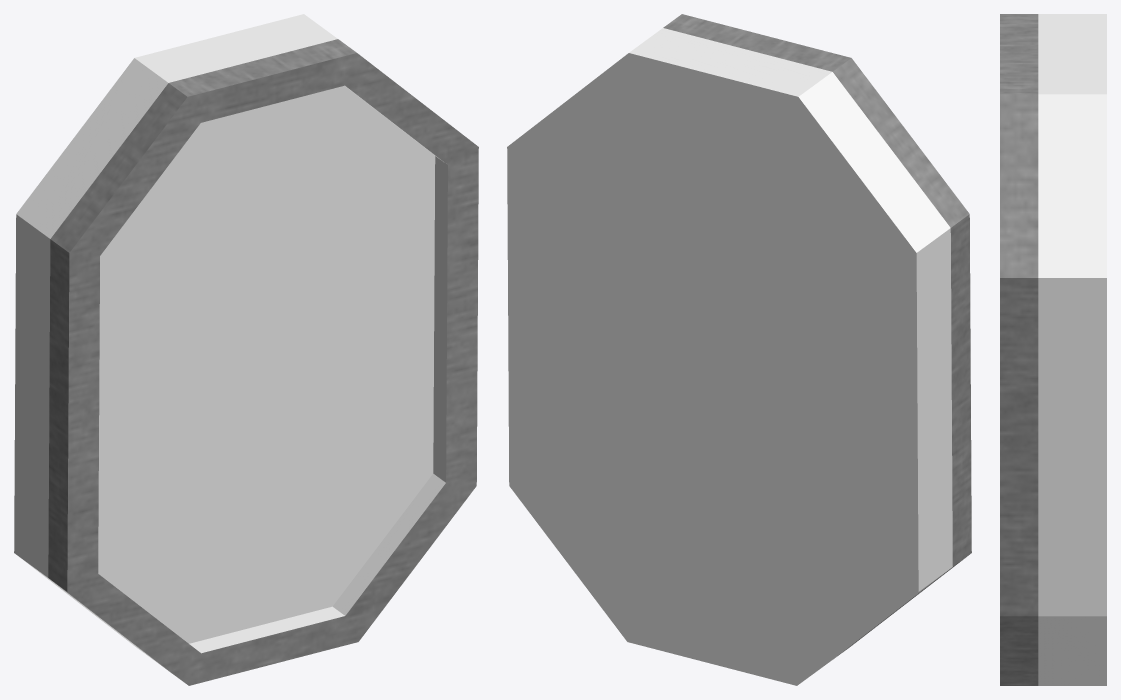
File: Mirror.fbx
3 renders of one model, left to right at view 1: azimuth 30°, elevation 25°; view 2: azimuth 150°, elevation 25°; view 3: azimuth 270°, elevation 25°, orthographic.
Visible parts, largest first — view 1: polySurface5, polySurface6; view 2: polySurface6, polySurface5; view 3: polySurface6, polySurface5.
Boxes of the visible parts, box(x1,y1,x2,y2) form: polySurface5: box(48, 39, 478, 685); polySurface6: box(14, 14, 337, 669); polySurface6: box(507, 28, 952, 685); polySurface5: box(663, 14, 971, 658); polySurface6: box(1038, 14, 1106, 685); polySurface5: box(1000, 14, 1038, 685).
Bounding box in the file's own units: 0.59 × 0.8111 × 0.1321.
